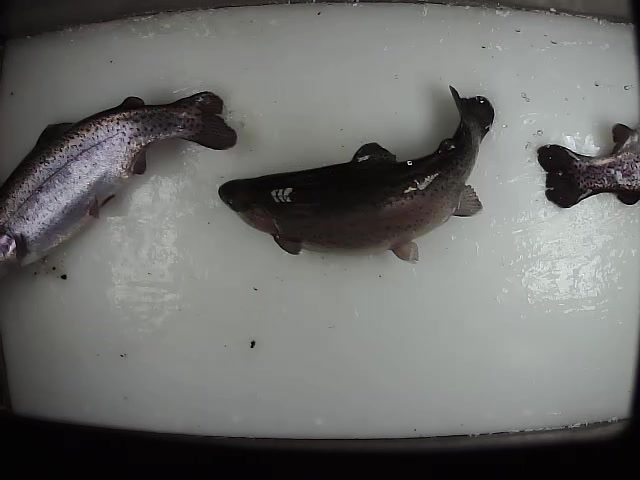fish: (217, 84, 497, 266), (1, 90, 238, 273), (535, 122, 640, 210)
